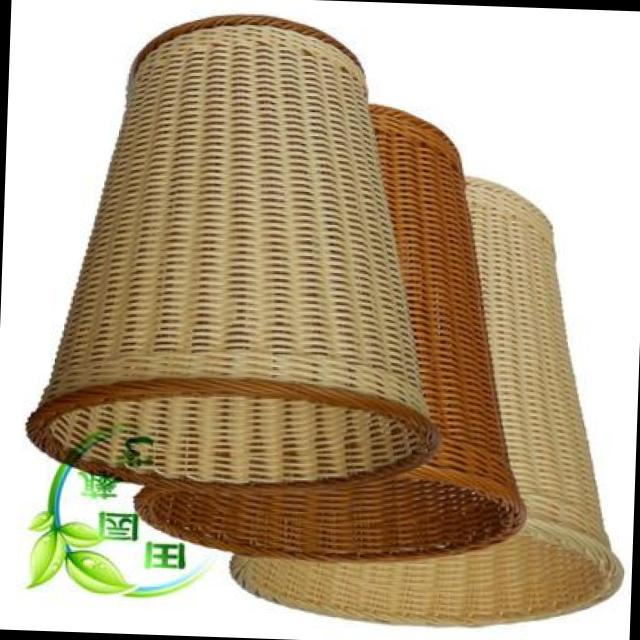dustbin: (25, 3, 458, 501), (227, 158, 640, 640), (128, 100, 544, 574)
